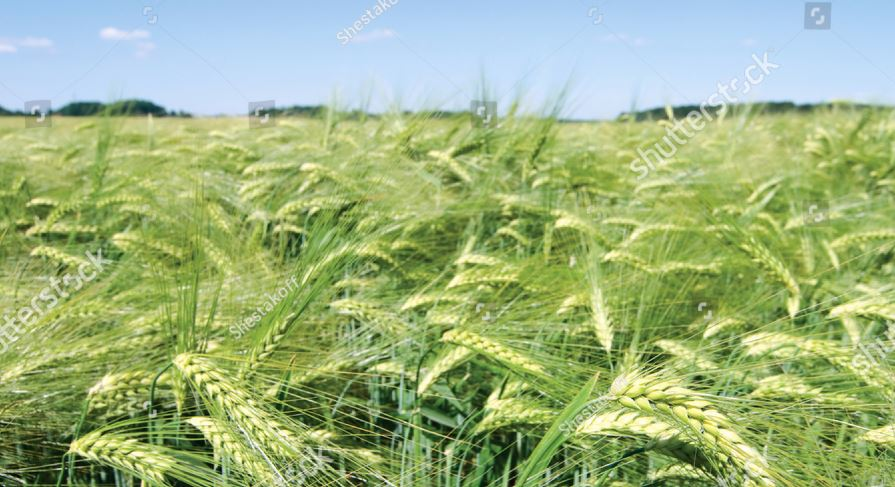Wheat: (150, 128, 759, 475)
